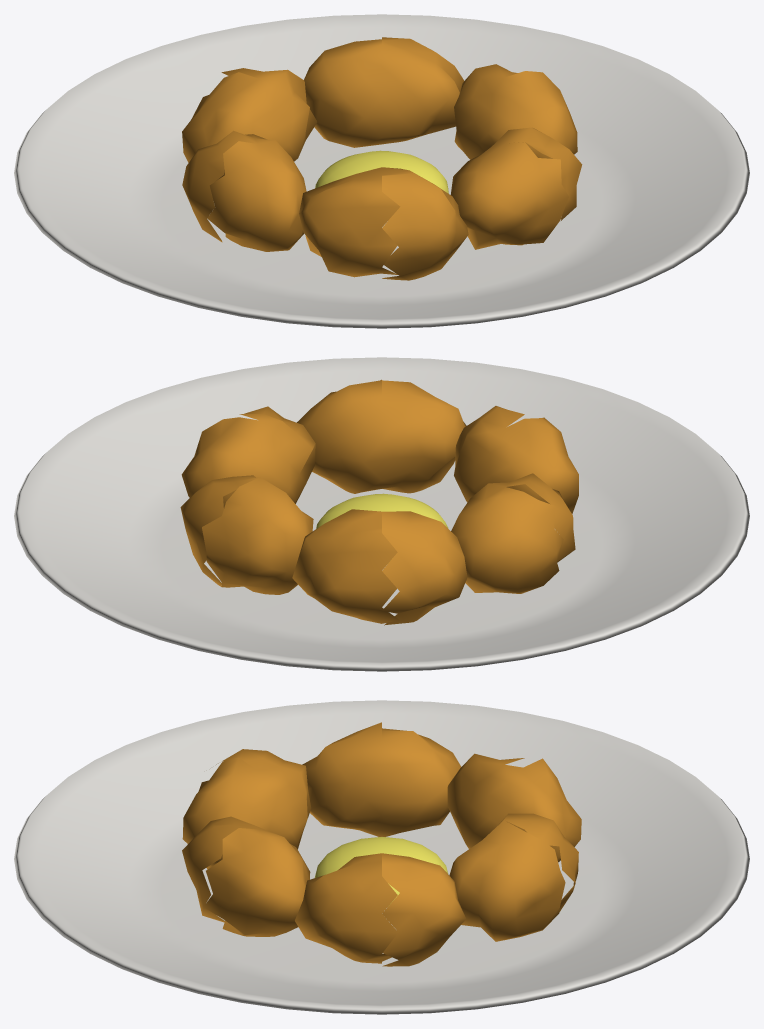
The model's file is bolinho-bacalhau.glb.
3 renders of one model, top to bottom at view 1: azimuth 30°, elevation 25°; view 2: azimuth 150°, elevation 25°; view 3: azimuth 270°, elevation 25°, orthographic.
Parts seen in each view (by area): view 1: bolinho-bacalhau; view 2: bolinho-bacalhau; view 3: bolinho-bacalhau.
Part boxes in pixels (x1,y1,x2,y2): bolinho-bacalhau: (14,14,749,328); bolinho-bacalhau: (14,357,749,671); bolinho-bacalhau: (14,700,749,1014).
Bounding box in the file's own units: 0.24 × 0.0447 × 0.24.
